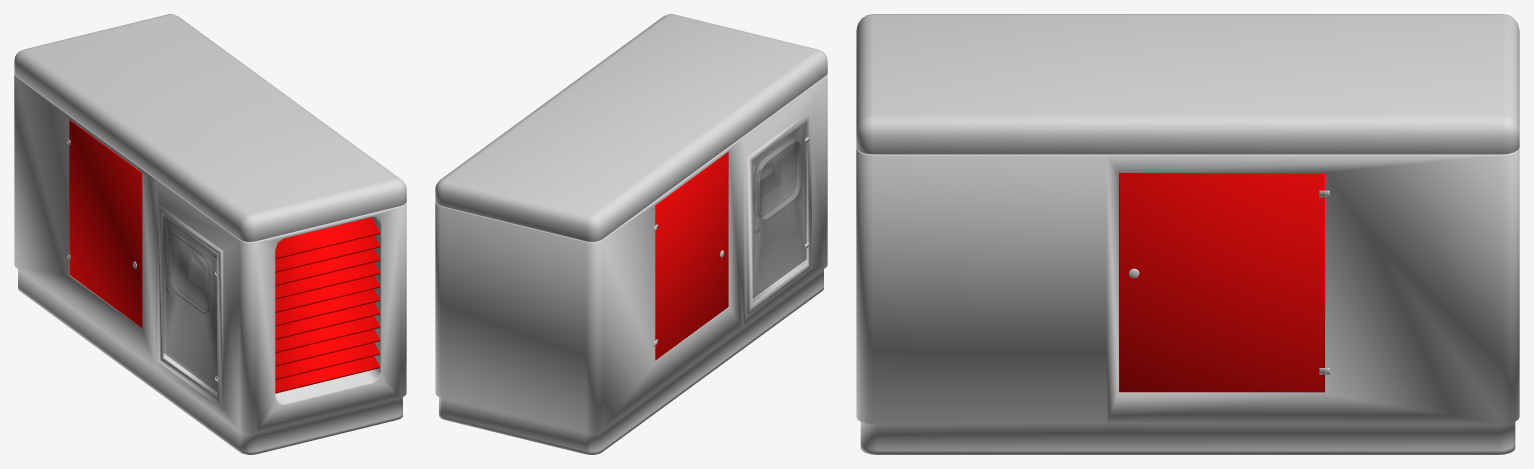
The picture shows the model from 3 angles, left to right: view 1: azimuth 30°, elevation 25°; view 2: azimuth 150°, elevation 25°; view 3: azimuth 270°, elevation 25°; orthographic projection. The views are drawn at different scales.
Parts seen in each view (by area): view 1: lambert1, lambert1_4, lambert1_2, lambert1_3; view 2: lambert1, lambert1_2, lambert1_3; view 3: lambert1, lambert1_1.
Boxes of the visible parts, left/top/right/bottom form: lambert1: left=14, top=14, right=406, bottom=454; lambert1_4: left=275, top=217, right=380, bottom=393; lambert1_2: left=69, top=119, right=142, bottom=327; lambert1_3: left=163, top=216, right=217, bottom=391; lambert1: left=435, top=14, right=827, bottom=454; lambert1_2: left=655, top=152, right=728, bottom=360; lambert1_3: left=752, top=122, right=806, bottom=298; lambert1: left=856, top=14, right=1519, bottom=454; lambert1_1: left=1119, top=173, right=1324, bottom=392.
Size of the model in its own units: 1.02 by 1.37 by 2.46.
